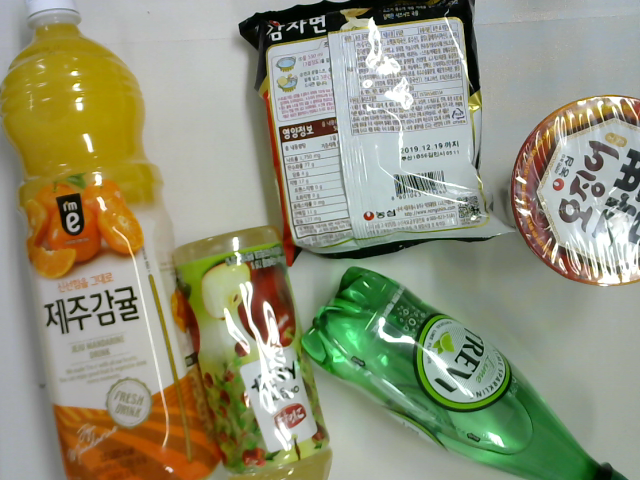Jeju_Tangerine_1.5L: (1, 1, 225, 480)
Morning_Apple_500ml: (170, 224, 332, 480)
Ojjam: (507, 92, 640, 286)
Potato: (238, 1, 517, 272)
Treviraim_500ml: (299, 263, 640, 480)
